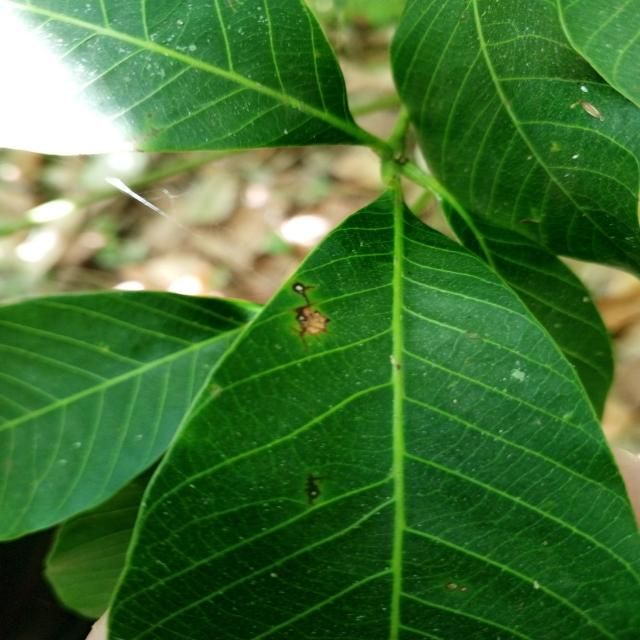Corynespora: (292, 282, 330, 348), (304, 473, 330, 506)
